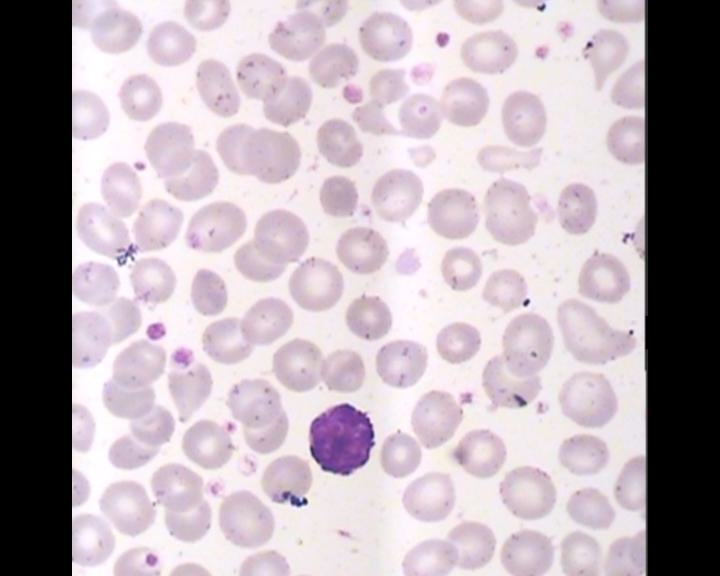baso: (300, 401, 381, 480)
